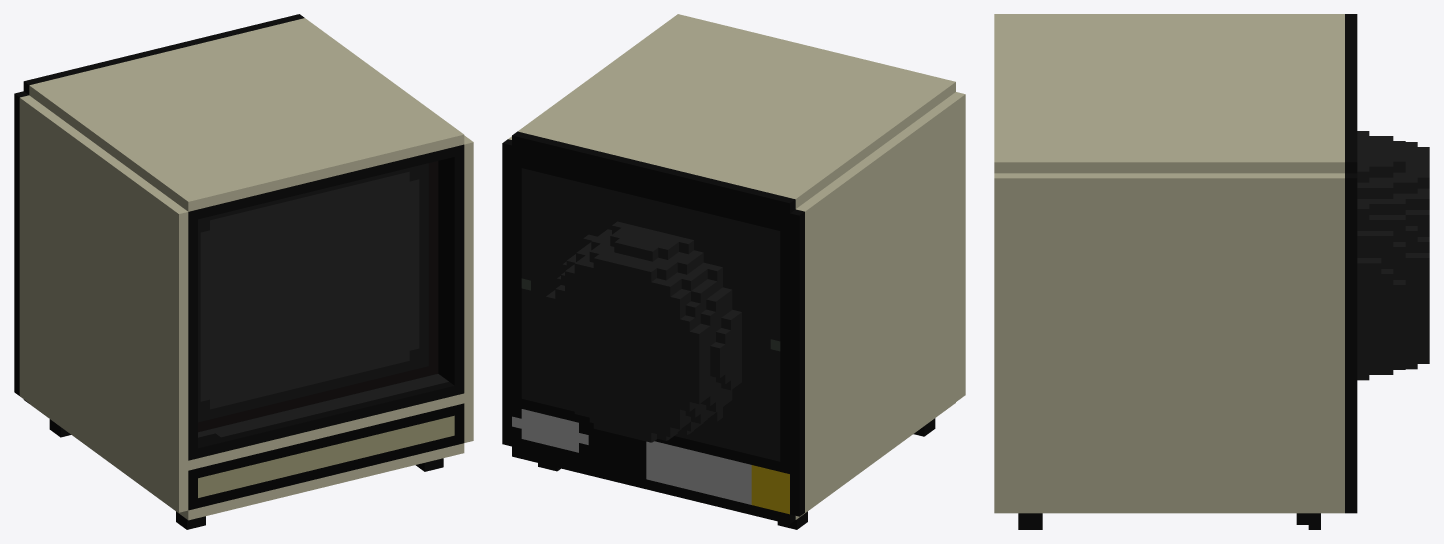
File: SpiderScreen_off.fbx
3 views of the same model, side by side, from view 1: azimuth 30°, elevation 25°; view 2: azimuth 150°, elevation 25°; view 3: azimuth 270°, elevation 25° (orthographic). The views are drawn at different scales.
Visible parts, largest first — view 1: SpiderScreen_off; view 2: SpiderScreen_off; view 3: SpiderScreen_off.
Part boxes in pixels (bbox=[...]): SpiderScreen_off: bbox=[14, 14, 473, 529]; SpiderScreen_off: bbox=[502, 14, 965, 529]; SpiderScreen_off: bbox=[994, 14, 1429, 529].
Bounding box in the file's own units: 3100 × 3400 × 3600.
